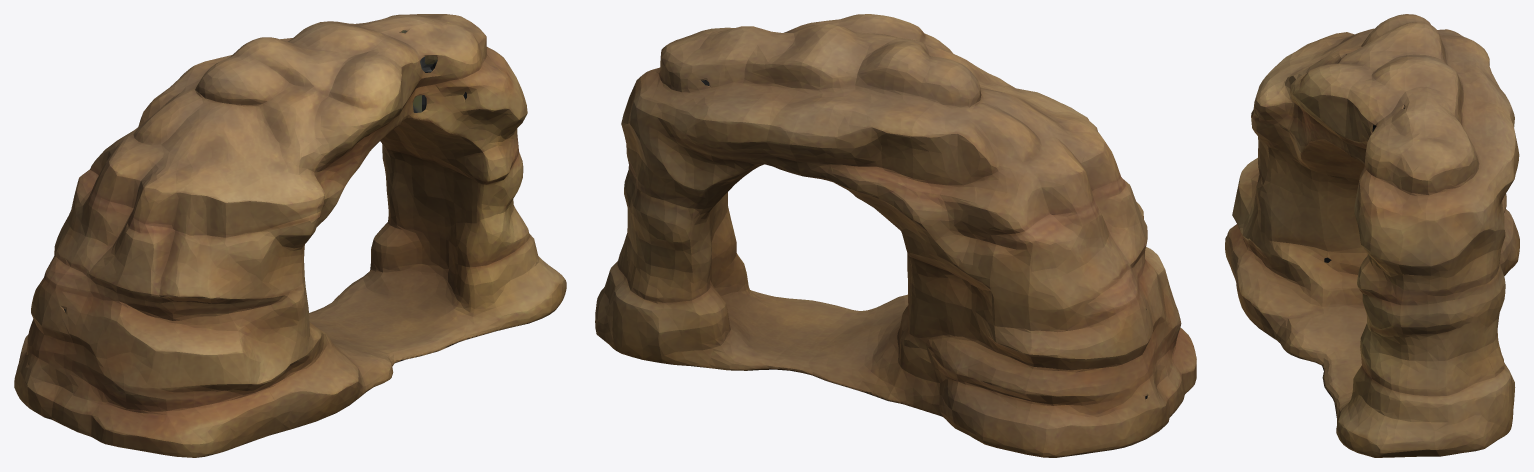
The picture shows the model from 3 angles, left to right: view 1: azimuth 30°, elevation 25°; view 2: azimuth 150°, elevation 25°; view 3: azimuth 270°, elevation 25°; orthographic projection. The views are drawn at different scales.
Parts seen in each view (by area): view 1: world; view 2: world; view 3: world.
Boxes of the visible parts, x1,y1,x2,y2 form: world: (14,14,566,457); world: (595,14,1196,457); world: (1225,14,1519,457).
Bounding box in the file's own units: 5.3 × 2.97 × 2.63.
1 material, 1 textured.
